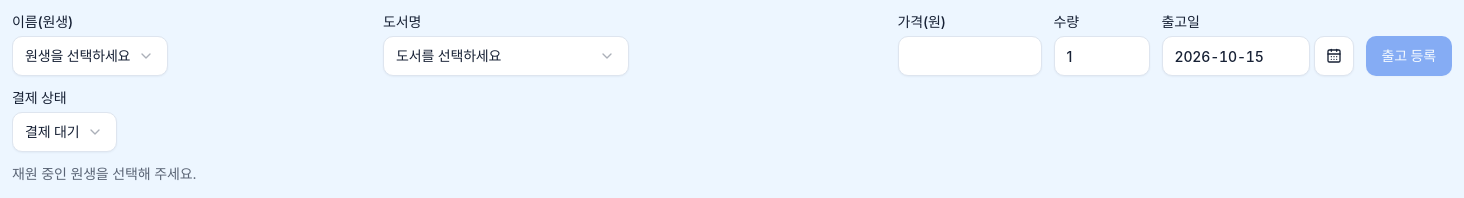
Scenario: BookShipmentForm › 출고일을 바꾸면 기본 입금일도 같은 날로 따라간다
The image size is (1464, 198).
Step 1. Select "김민지" in the dropdown labelled "이름(원생)" → (90, 56), box [12,36,168,76]
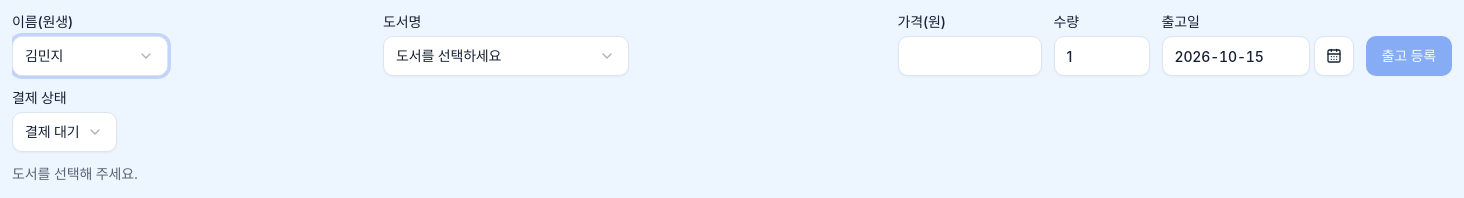
Step 2. Select "바이엘 상 (남은 재고 9권)" in the dropdown labelled "도서명" → (506, 56), box [383,36,629,76]
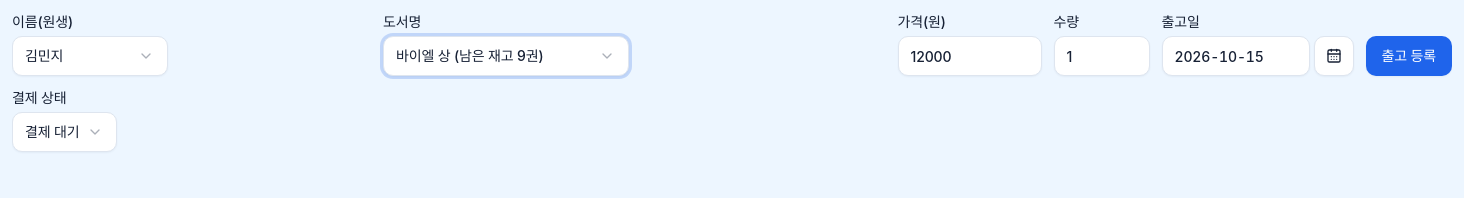
Step 3. Select "결제 완료" in the dropdown labelled "결제 상태" → (64, 132), box [12,112,117,152]
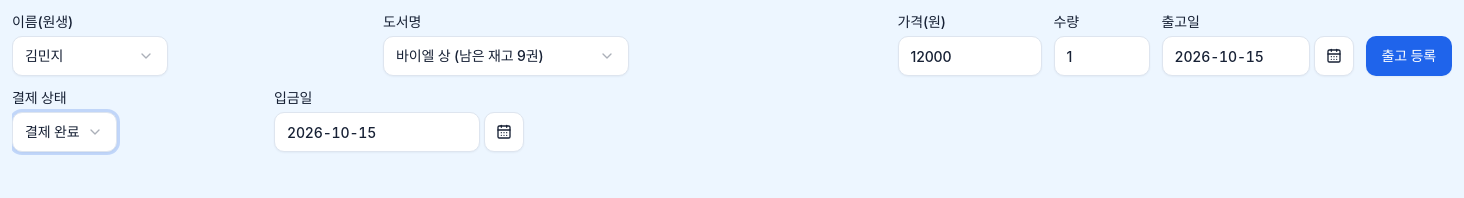
Step 4. Replace the text in the field labelled "출고일" with "2026-10-10" → (1236, 56), box [1162,36,1310,76]
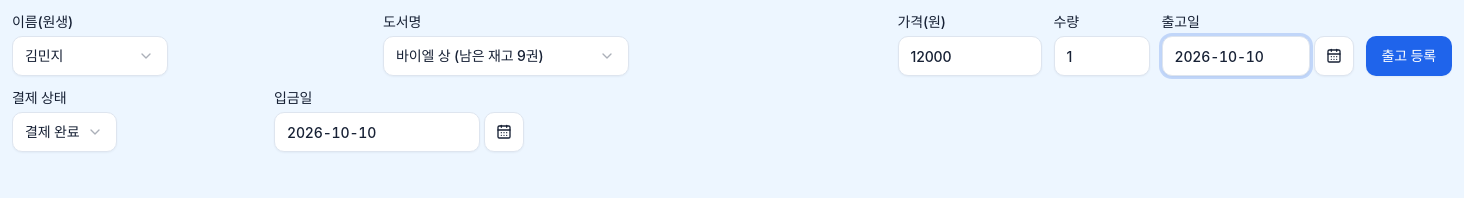
Expected: the field labelled "입금일" holds "2026-10-10", [274,112,480,152]
